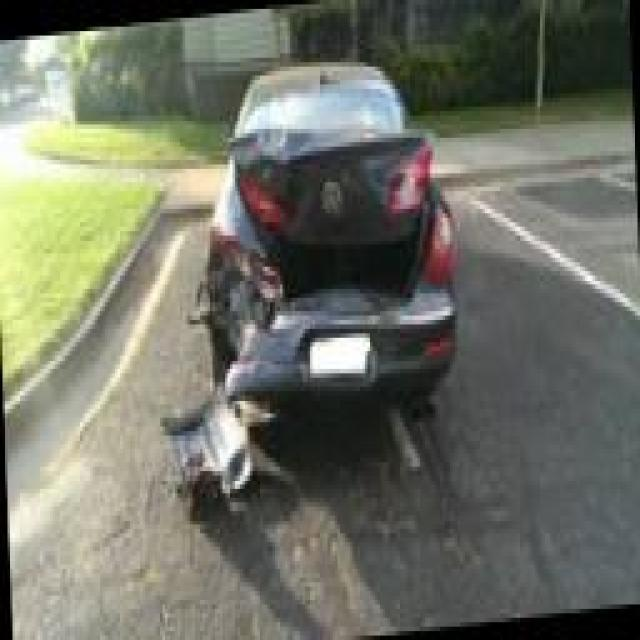Bumper: (203, 264, 452, 411)
Dickey: (225, 123, 428, 305)
Light: (207, 235, 282, 297)
